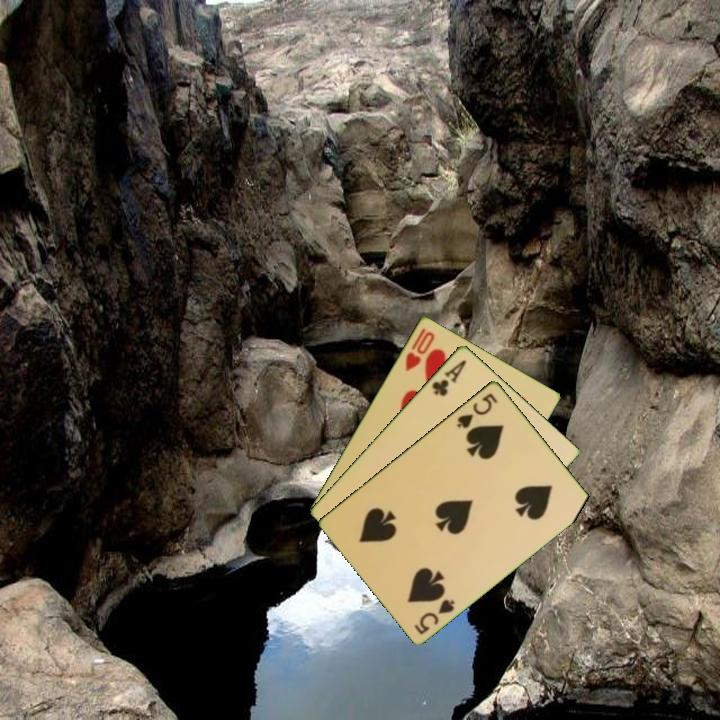10h: (401, 324, 438, 374)
5s: (453, 389, 500, 431), (411, 595, 458, 637)
Ac: (428, 355, 469, 399)
